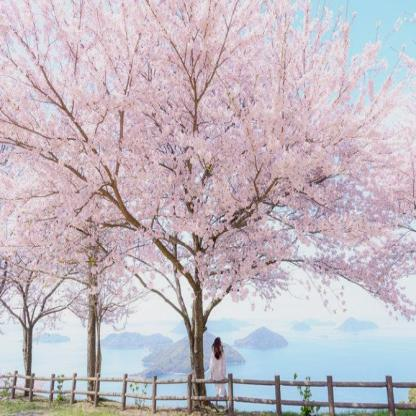Someiyoshino: (1, 3, 415, 319)
